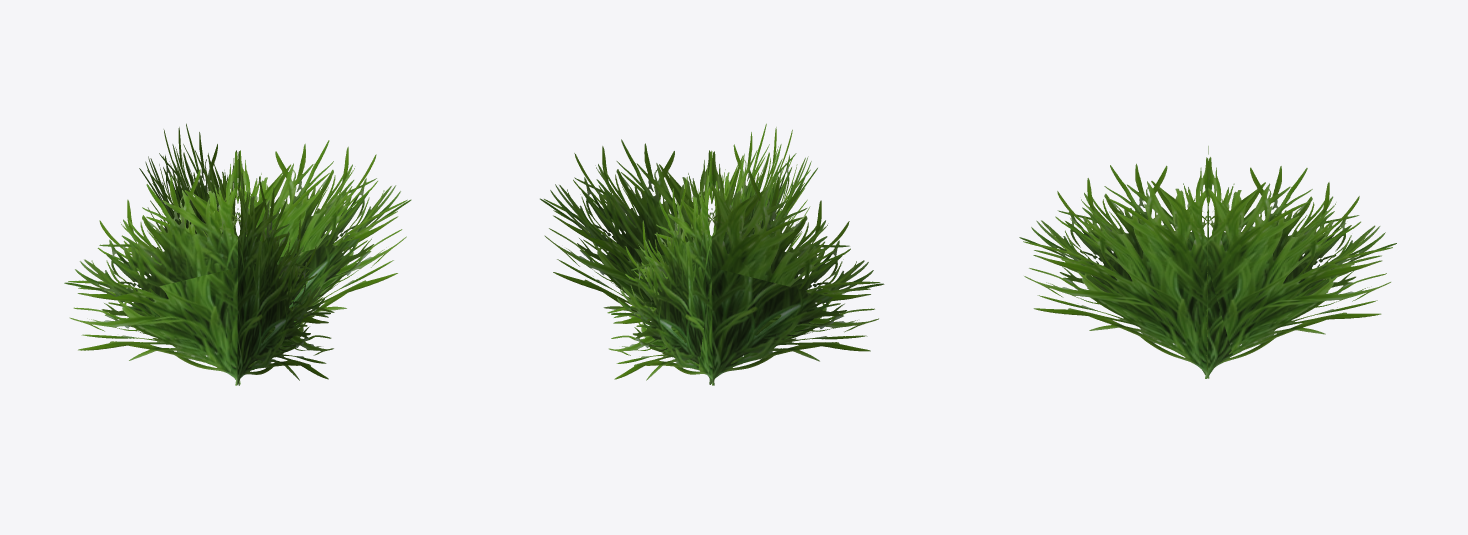
The model's file is grass5.fbx.
3 renders of one model, left to right at view 1: azimuth 30°, elevation 25°; view 2: azimuth 150°, elevation 25°; view 3: azimuth 270°, elevation 25°, orthographic. The views are drawn at different scales.
Parts seen in each view (by area): view 1: grass5; view 2: grass5; view 3: grass5.
Part boxes in pixels (<box>): grass5: <box>64,123,411,385</box>; grass5: <box>540,123,884,385</box>; grass5: <box>1019,146,1396,378</box>.
Size of the model in its own units: 107 by 74.64 by 108.
1 material, 1 textured.
